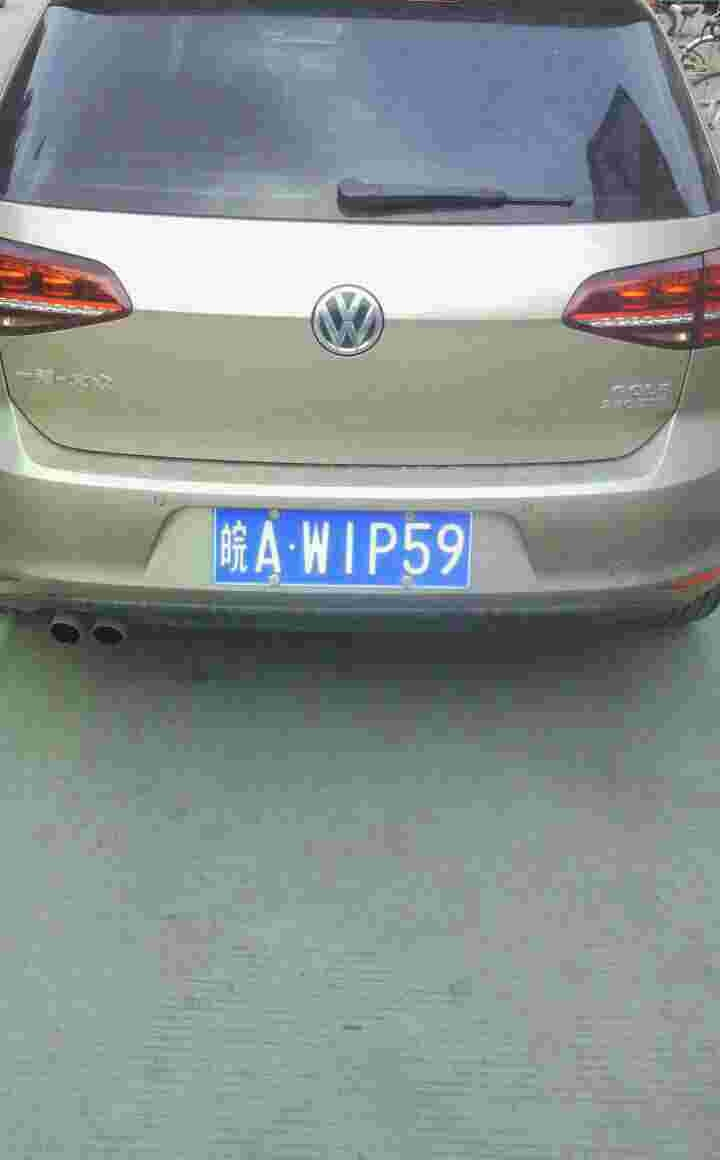plate: (214, 504, 479, 591)
